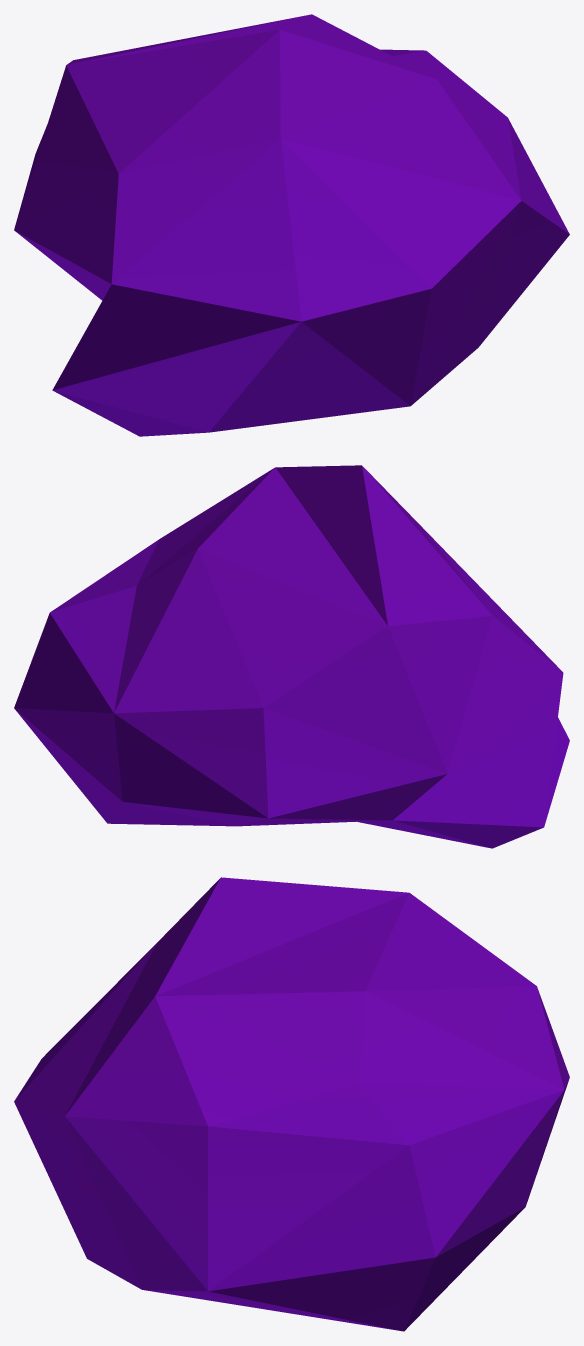
Rendered from SM_Env_Bush_01.glb.
3 views of the same model, one above another, from view 1: azimuth 30°, elevation 25°; view 2: azimuth 150°, elevation 25°; view 3: azimuth 270°, elevation 25° (orthographic). The views are drawn at different scales.
Parts seen in each view (by area): view 1: SM_Env_Bush_01; view 2: SM_Env_Bush_01; view 3: SM_Env_Bush_01.
Part boxes in pixels (x1,y1,x2,y2): SM_Env_Bush_01: (14,14,569,436); SM_Env_Bush_01: (14,465,569,848); SM_Env_Bush_01: (14,877,569,1331).
Bounding box in the file's own units: 3.7 × 2.67 × 3.55.
